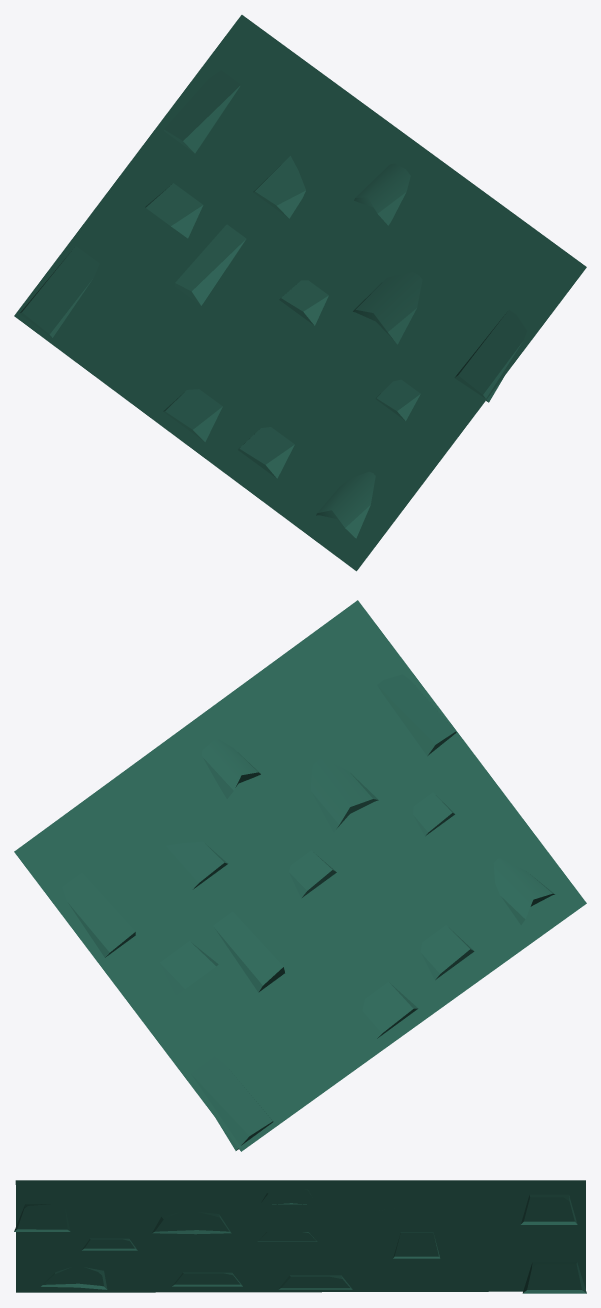
Rendered from SM_L_G_Home_Roof.fbx.
3 views of the same model, one above another, from view 1: azimuth 30°, elevation 25°; view 2: azimuth 150°, elevation 25°; view 3: azimuth 270°, elevation 25° (orthographic). The views are drawn at different scales.
Parts seen in each view (by area): view 1: SM_L_G_Home_Roof; view 2: SM_L_G_Home_Roof; view 3: SM_L_G_Home_Roof.
Boxes of the visible parts, x1=… form: SM_L_G_Home_Roof: x1=14, y1=15, x2=586, y2=571; SM_L_G_Home_Roof: x1=14, y1=600, x2=586, y2=1151; SM_L_G_Home_Roof: x1=14, y1=1180, x2=586, y2=1293.
Size of the model in its own units: 213 by 220 by 556.
